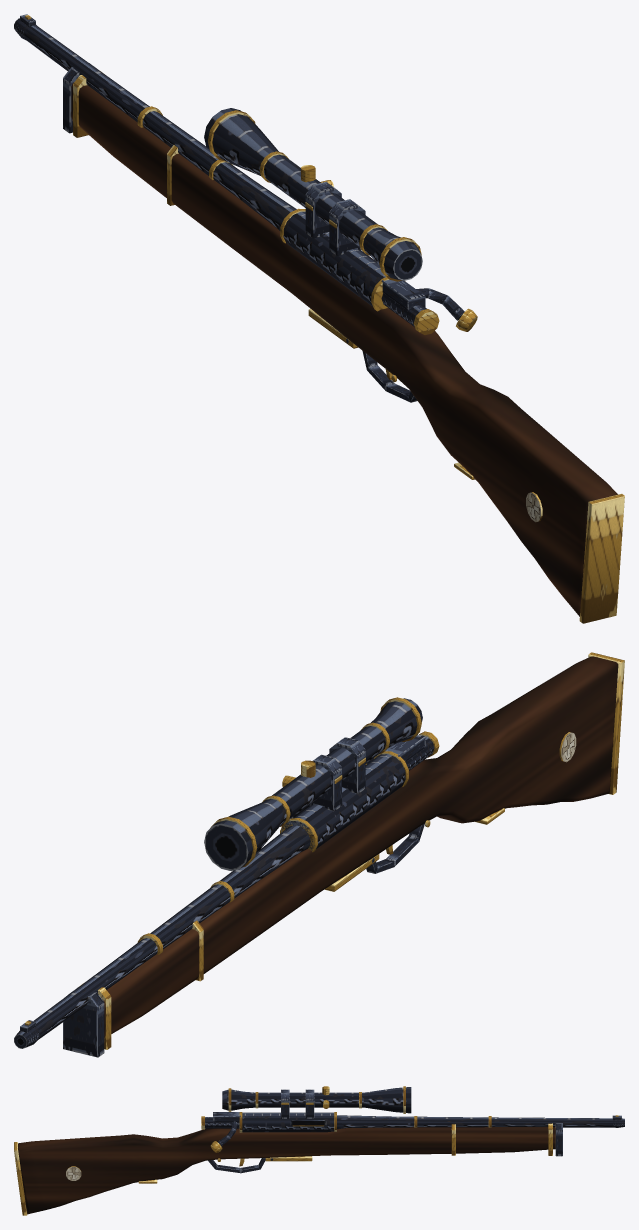
File: sniper_bolt_base.glb
3 views of the same model, one above another, from view 1: azimuth 30°, elevation 25°; view 2: azimuth 150°, elevation 25°; view 3: azimuth 270°, elevation 25° (orthographic). The views are drawn at different scales.
Parts seen in each view (by area): view 1: furniture, receiver; view 2: furniture, receiver; view 3: furniture, receiver, magazine.
Part boxes in pixels (box(x1,y1,x2,y2)): furniture: box(71, 82, 624, 623); receiver: box(14, 14, 477, 402); furniture: box(103, 652, 624, 1037); receiver: box(14, 697, 439, 1057); furniture: box(14, 1127, 555, 1215); receiver: box(201, 1086, 624, 1173); magazine: box(265, 1156, 312, 1161).
Size of the model in its own units: 0.0837 by 0.2206 by 0.9864.
Materials: 2 (2 with a texture image).
